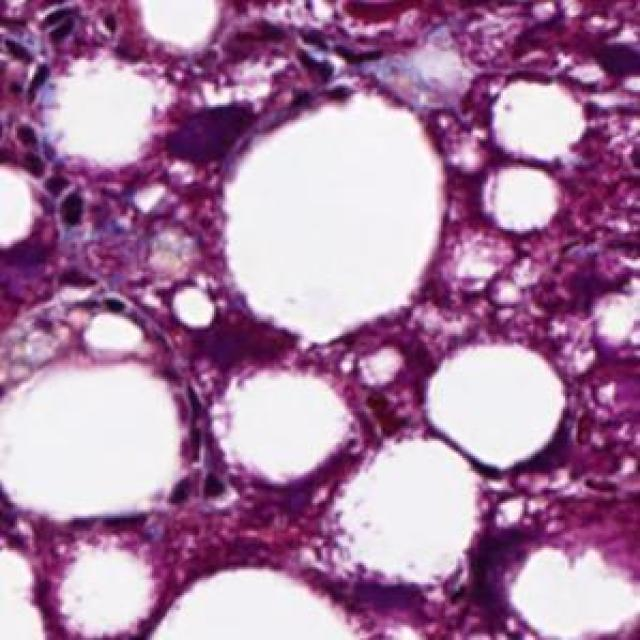inflammation: (8, 118, 98, 238)
